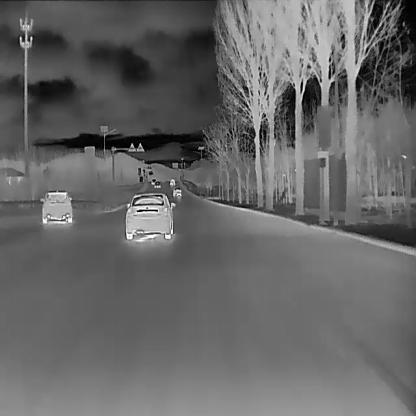car: (124, 190, 177, 238), (40, 188, 73, 222), (172, 186, 181, 196), (153, 180, 161, 188), (169, 178, 175, 185), (151, 178, 156, 184)
